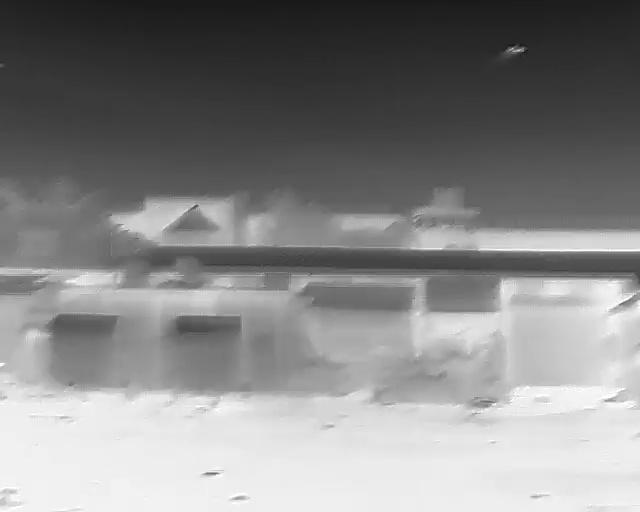fpv-drone: (504, 45, 526, 54)
